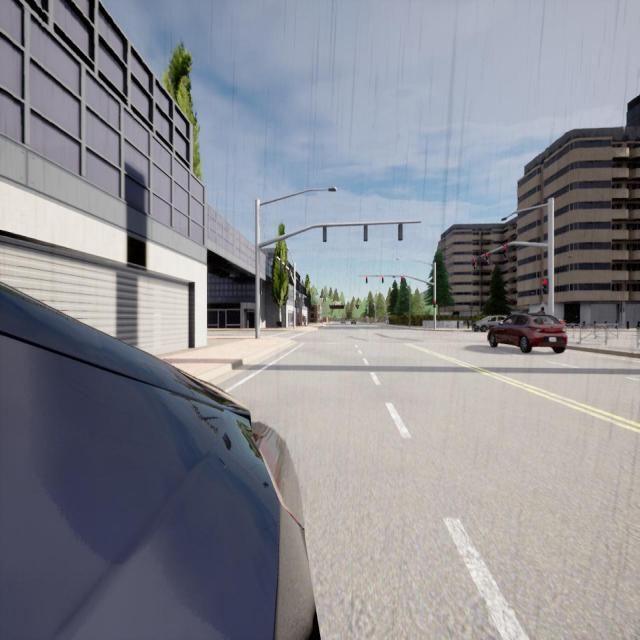Vehicle: (0, 285, 318, 640), (487, 312, 568, 354), (472, 315, 510, 332), (340, 318, 346, 324), (351, 319, 356, 325)
traffic_light: (542, 278, 549, 294), (363, 224, 368, 242), (322, 225, 327, 242), (398, 223, 402, 240), (472, 259, 478, 269), (485, 253, 490, 264), (504, 245, 508, 257), (260, 278, 262, 295), (433, 299, 436, 308), (288, 269, 291, 278), (295, 300, 298, 308), (284, 264, 286, 274), (280, 260, 282, 270), (382, 275, 384, 283), (366, 276, 368, 283), (401, 275, 403, 282)
